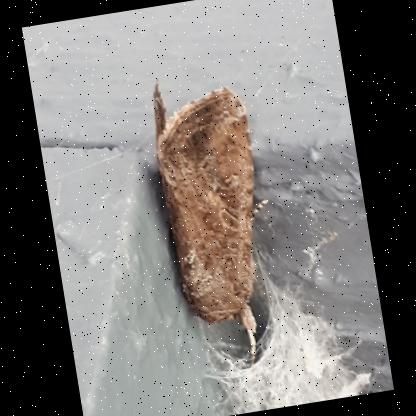Fall Armyworm Moth: (139, 61, 297, 378)
